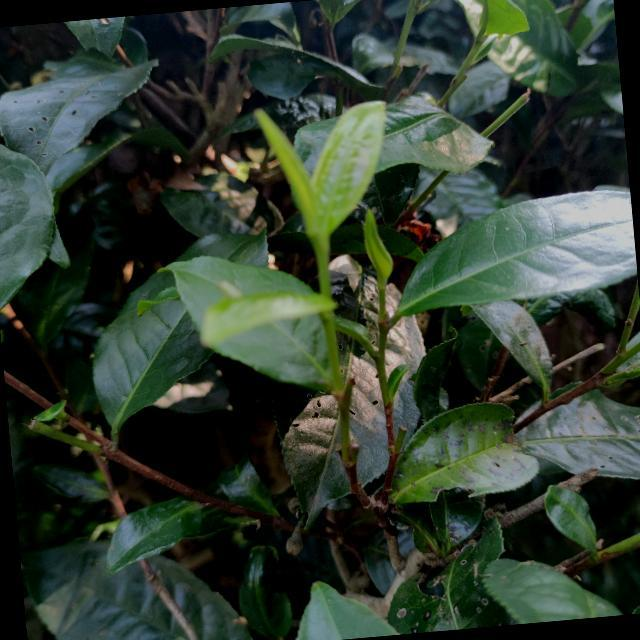Stem: (317, 257, 330, 283)
